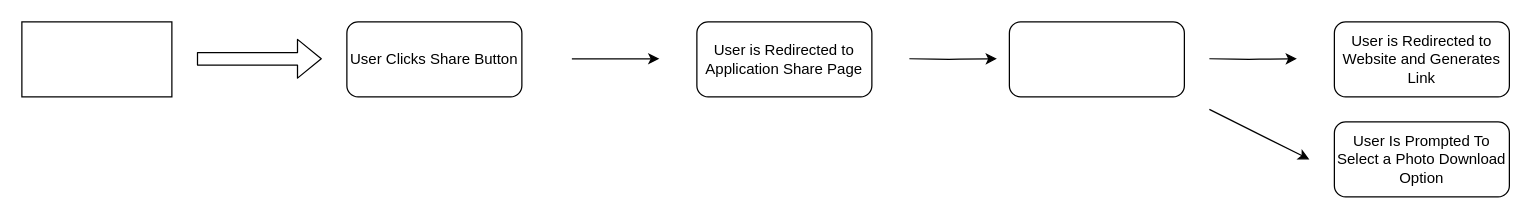
Image size: 1531x219. Some labels were removed from this diagram. Here are the shapes that lost their labels. From the top down, the box of each, then its label:
(21, 21, 172, 97): Share
(1008, 21, 1184, 97): User Clicks Desired Share Option
